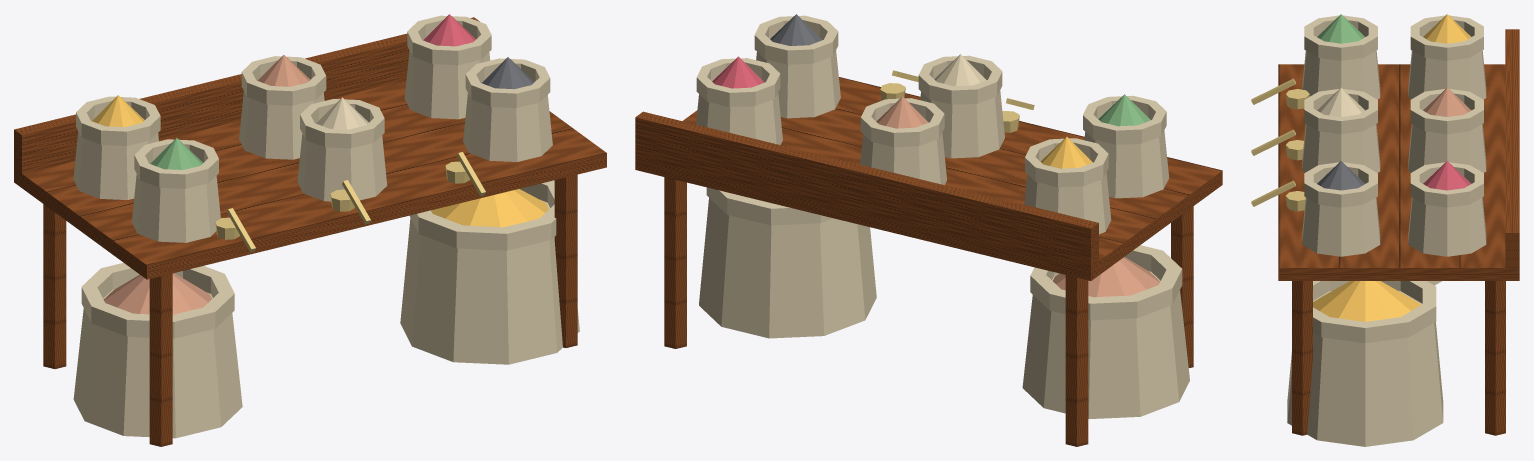
The model's file is indian-bazaar-street-and-temple-spice-stall-1b95bd16.glb.
The picture shows the model from 3 angles, left to right: view 1: azimuth 30°, elevation 25°; view 2: azimuth 150°, elevation 25°; view 3: azimuth 270°, elevation 25°; orthographic projection. The views are drawn at different scales.
Parts seen in each view (by area): view 1: spice-stall-jute, spice-stall-timber, spice-stall-saffron, spice-stall-terracotta, spice-stall-brass, spice-stall-leaf, spice-stall-charcoal, spice-stall-crimson; view 2: spice-stall-jute, spice-stall-timber, spice-stall-terracotta, spice-stall-brass, spice-stall-crimson, spice-stall-leaf, spice-stall-saffron, spice-stall-charcoal; view 3: spice-stall-jute, spice-stall-timber, spice-stall-saffron, spice-stall-brass, spice-stall-leaf, spice-stall-charcoal, spice-stall-terracotta, spice-stall-crimson.
Part boxes in pixels (left/top/right/bottom): spice-stall-jute: left=73, top=15, right=579, bottom=438; spice-stall-timber: left=14, top=17, right=606, bottom=446; spice-stall-saffron: left=92, top=95, right=548, bottom=227; spice-stall-terracotta: left=103, top=55, right=310, bottom=314; spice-stall-brass: left=215, top=152, right=485, bottom=252; spice-stall-leaf: left=150, top=138, right=202, bottom=169; spice-stall-charcoal: left=482, top=57, right=534, bottom=89; spice-stall-crimson: left=423, top=14, right=475, bottom=46; spice-stall-jute: left=696, top=15, right=1189, bottom=418; spice-stall-timber: left=635, top=77, right=1222, bottom=446; spice-stall-terracotta: left=876, top=96, right=1159, bottom=297; spice-stall-brass: left=880, top=70, right=1034, bottom=132; spice-stall-crimson: left=712, top=56, right=764, bottom=88; spice-stall-leaf: left=1098, top=94, right=1150, bottom=126; spice-stall-saffron: left=1040, top=136, right=1092, bottom=168; spice-stall-charcoal: left=770, top=14, right=822, bottom=45; spice-stall-jute: left=1287, top=15, right=1486, bottom=446; spice-stall-timber: left=1278, top=29, right=1519, bottom=435; spice-stall-saffron: left=1313, top=14, right=1471, bottom=321; spice-stall-brass: left=1251, top=78, right=1309, bottom=211; spice-stall-leaf: left=1317, top=14, right=1364, bottom=43; spice-stall-charcoal: left=1317, top=161, right=1364, bottom=190; spice-stall-terracotta: left=1423, top=87, right=1471, bottom=116; spice-stall-crimson: left=1423, top=161, right=1471, bottom=190.
Bounding box in the file's own units: 2.08 × 1.16 × 1.11.
Materials: 8 (1 with a texture image).
